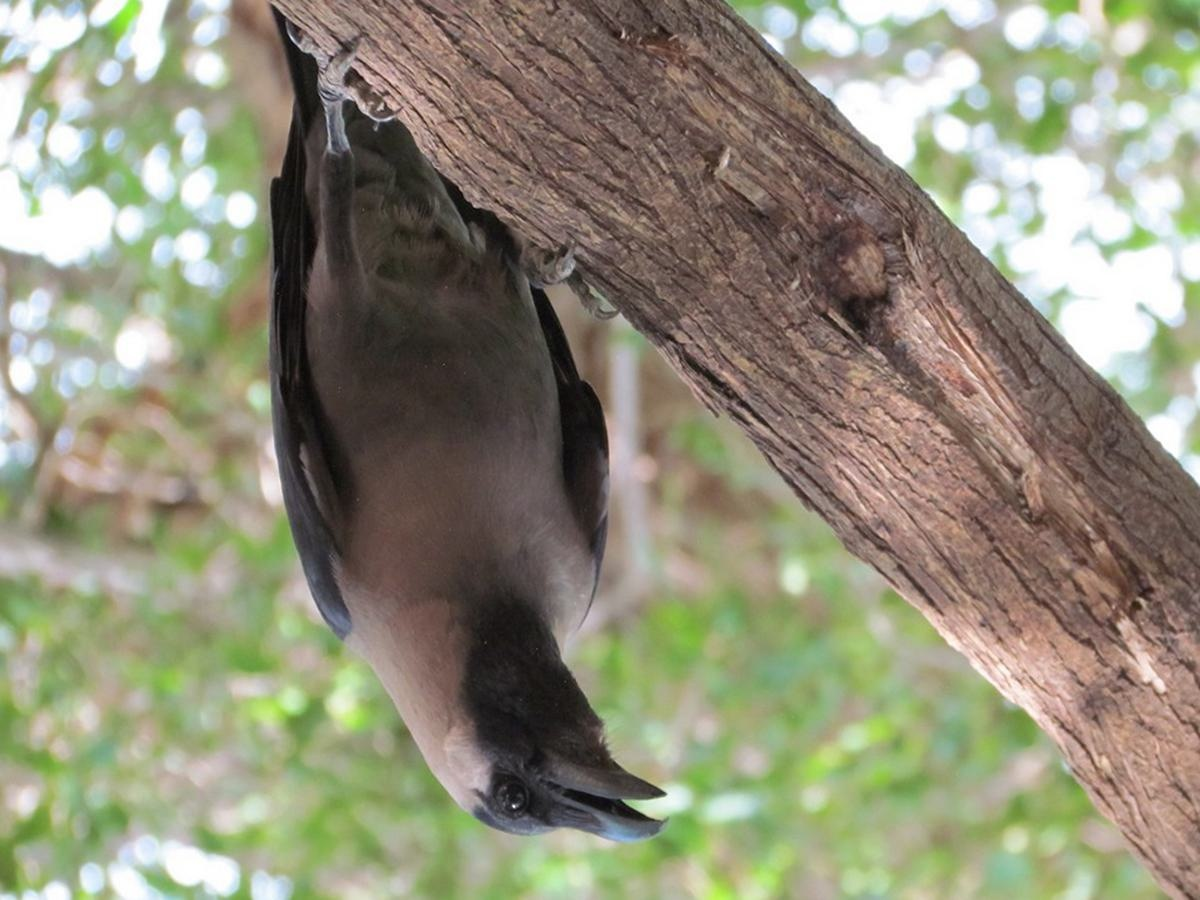crow: (263, 55, 684, 847)
